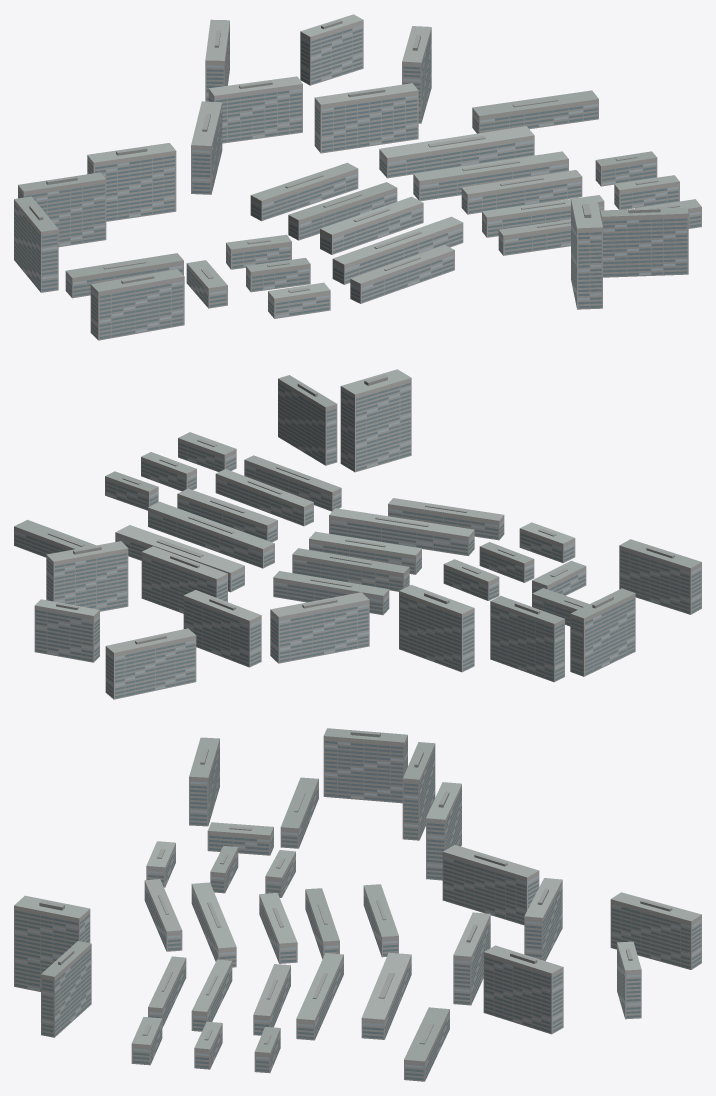
File: apt-a15805003.glb
3 views of the same model, one above another, from view 1: azimuth 30°, elevation 25°; view 2: azimuth 150°, elevation 25°; view 3: azimuth 270°, elevation 25° (orthographic). The views are drawn at different scales.
Visible parts, largest first — view 1: apt-a15805003; view 2: apt-a15805003; view 3: apt-a15805003.
Boxes of the visible parts, left/top/right/bottom form: apt-a15805003: left=14, top=14, right=701, bottom=340; apt-a15805003: left=14, top=369, right=701, bottom=699; apt-a15805003: left=14, top=728, right=701, bottom=1081.
Size of the model in its own units: 476 by 63.4 by 468.
